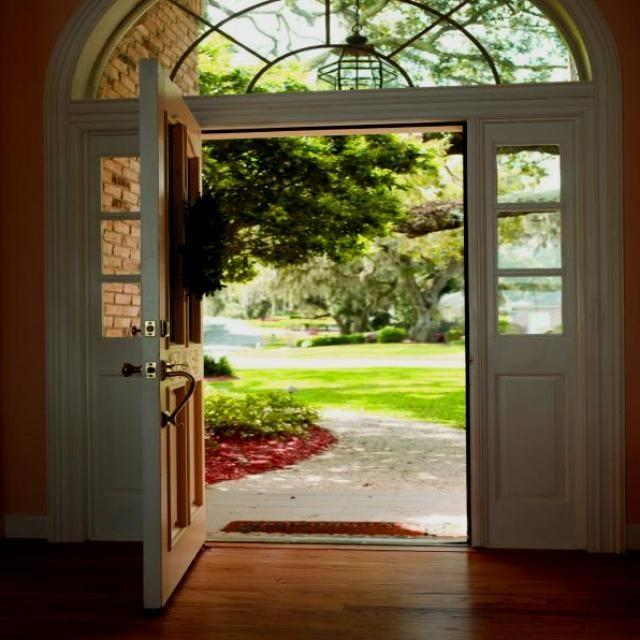door: (126, 51, 223, 615)
